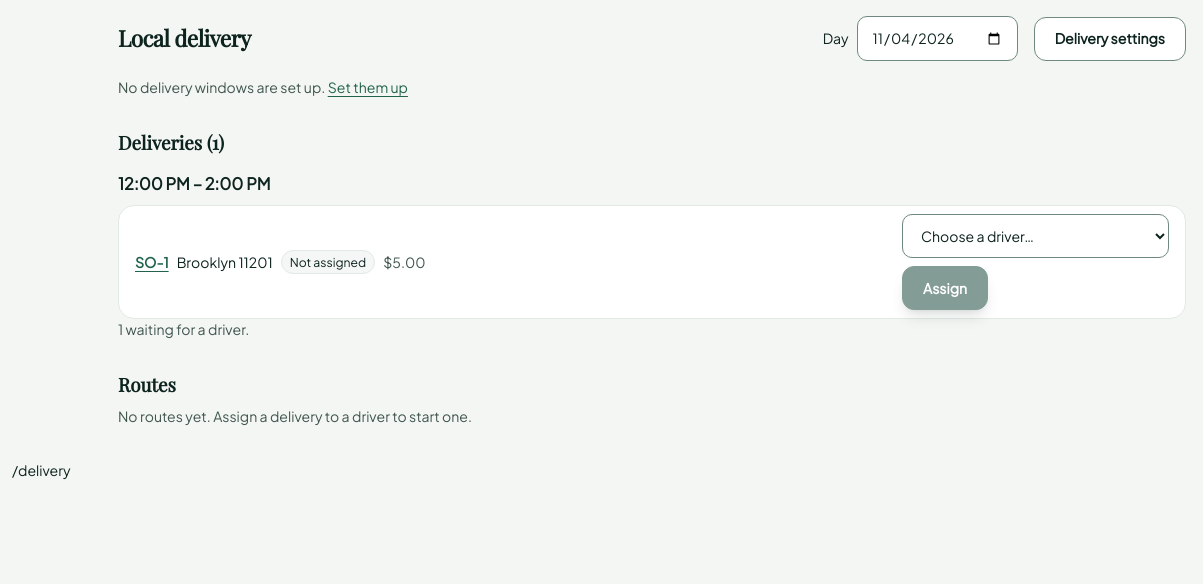
Test: dispatch board after a failed action › reloads the board and says that someone else changed it (409)
Select "Sam (sam@x.com)" in the dropdown named "Driver for SO-1" at point(1036, 236), box [902, 214, 1169, 258]
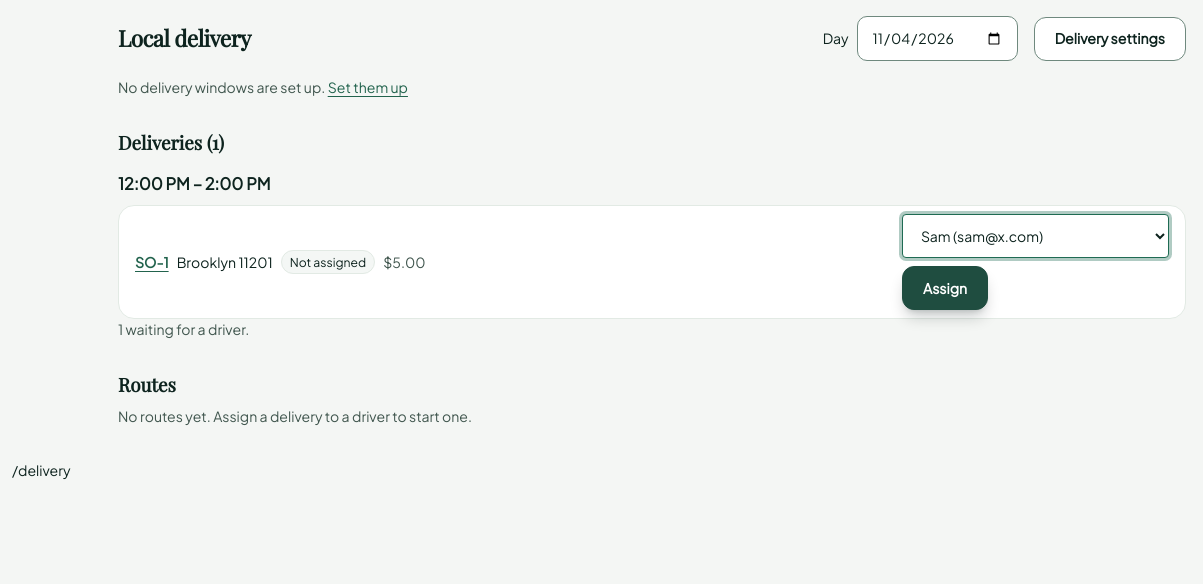
Click the button "Assign" at point(945, 288), box [902, 266, 988, 310]
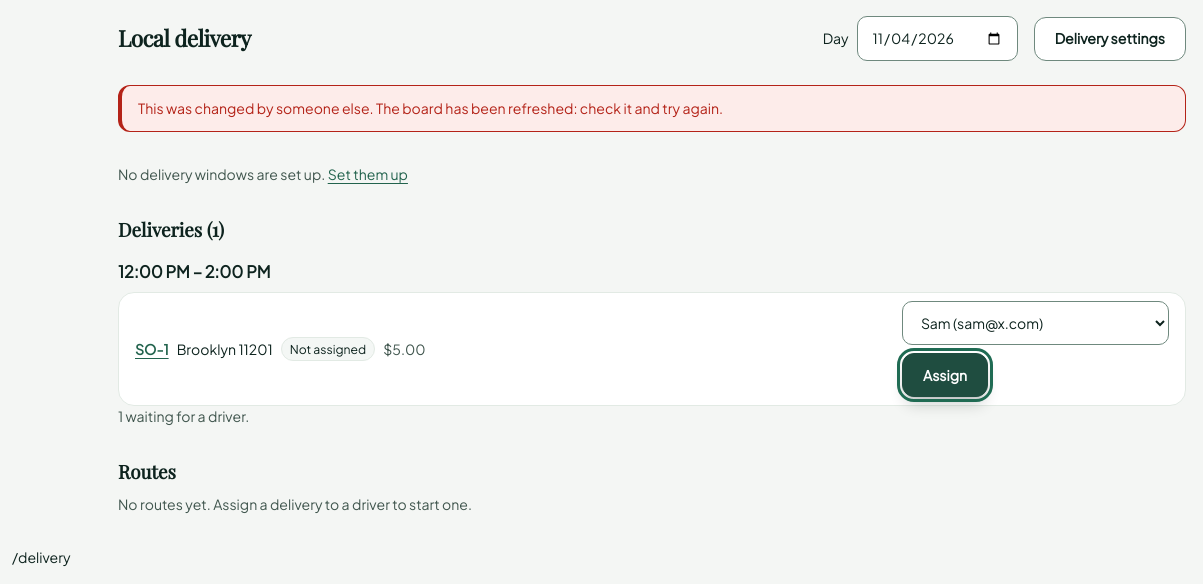
Expected: the text "changed by someone else" is shown, [138, 99, 723, 117]
